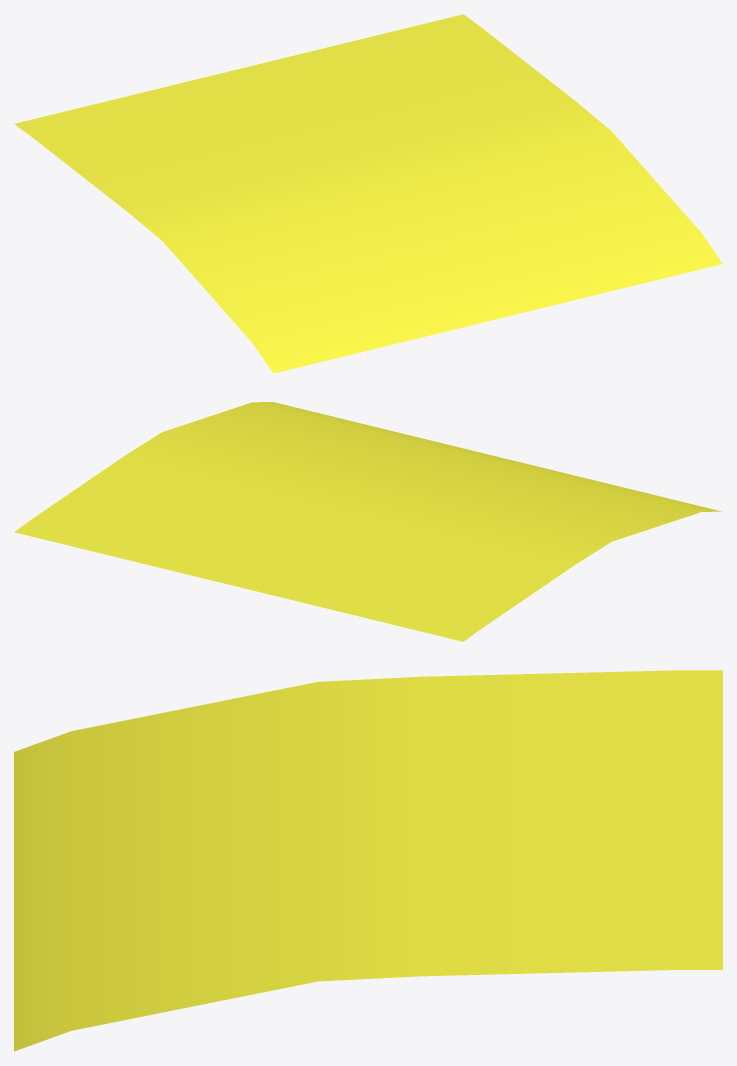
File: note.glb
3 renders of one model, top to bottom at view 1: azimuth 30°, elevation 25°; view 2: azimuth 150°, elevation 25°; view 3: azimuth 270°, elevation 25°, orthographic. The views are drawn at different scales.
Parts seen in each view (by area): view 1: Plane.004; view 2: Plane.004; view 3: Plane.004.
Boxes of the visible parts, x1,y1,x2,y2 form: Plane.004: (14, 14, 722, 373); Plane.004: (14, 402, 721, 641); Plane.004: (14, 670, 722, 1051).
Size of the model in its own units: 0.4421 by 0.0562 by 0.4421.
Materials: 2 (1 with a texture image).
